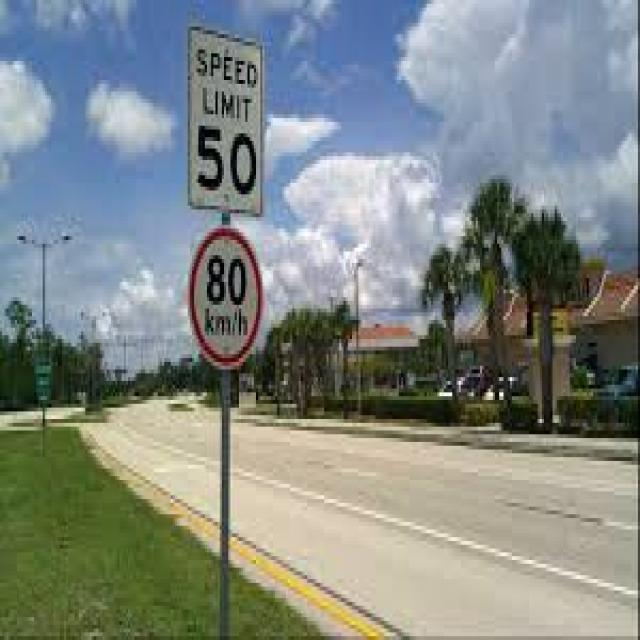speedLimit50: (189, 29, 259, 215)
